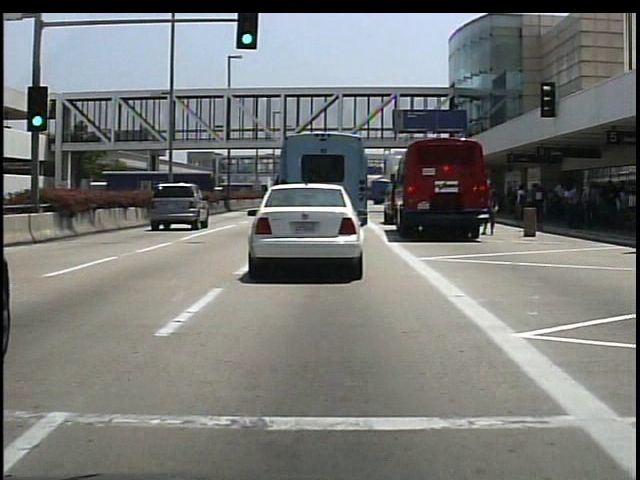person: (484, 188, 497, 238)
